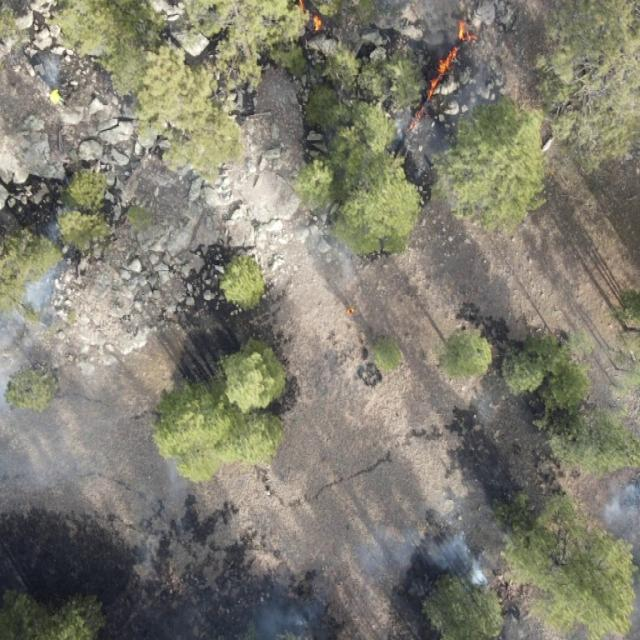fire: (404, 18, 480, 144), (294, 0, 326, 38)
smoke: (0, 215, 72, 500), (381, 10, 501, 162), (352, 508, 510, 612), (80, 451, 208, 567), (604, 475, 640, 640), (240, 581, 332, 640), (28, 28, 76, 108)
